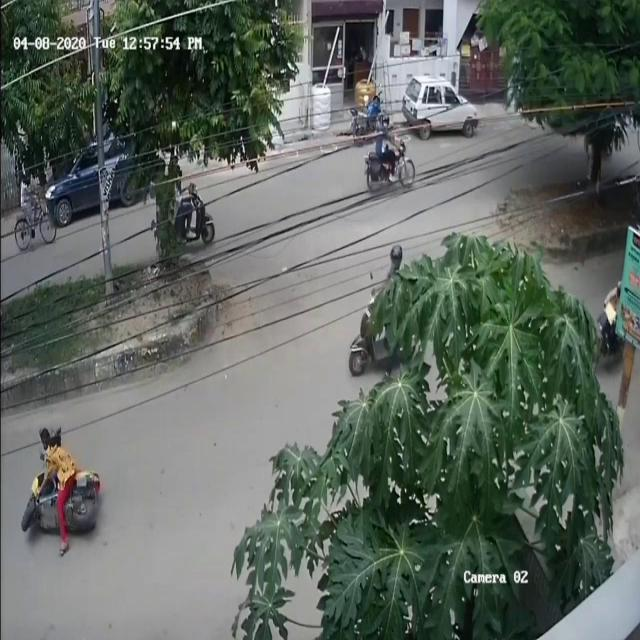accident: (17, 419, 104, 561)
